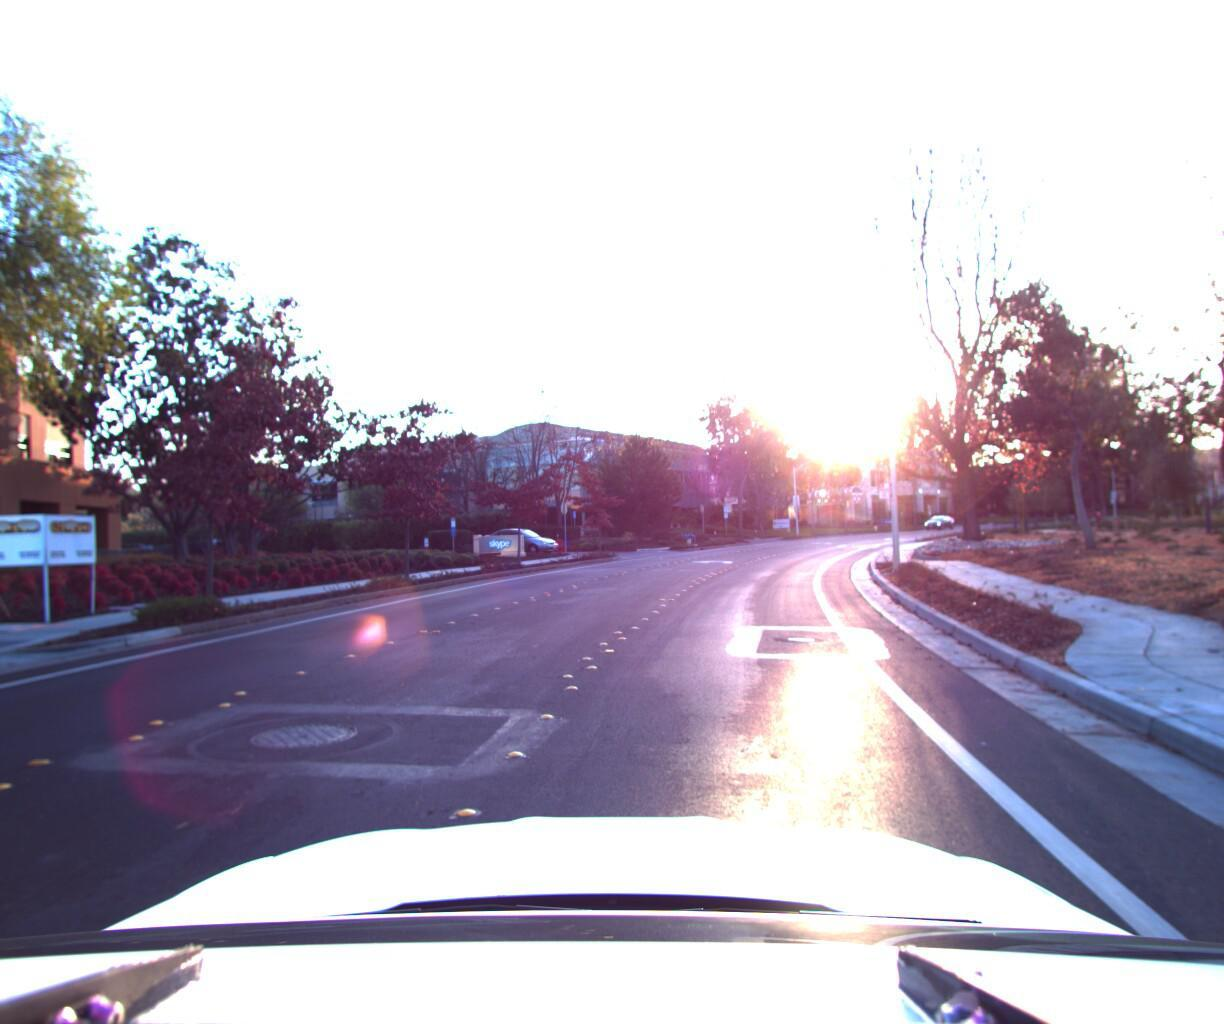car: (479, 522, 562, 555)
